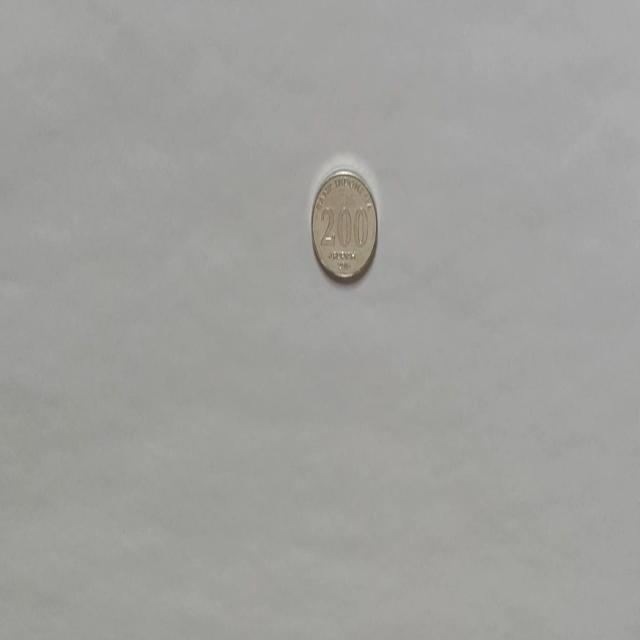dua ratus rupiah: (310, 166, 378, 283)
